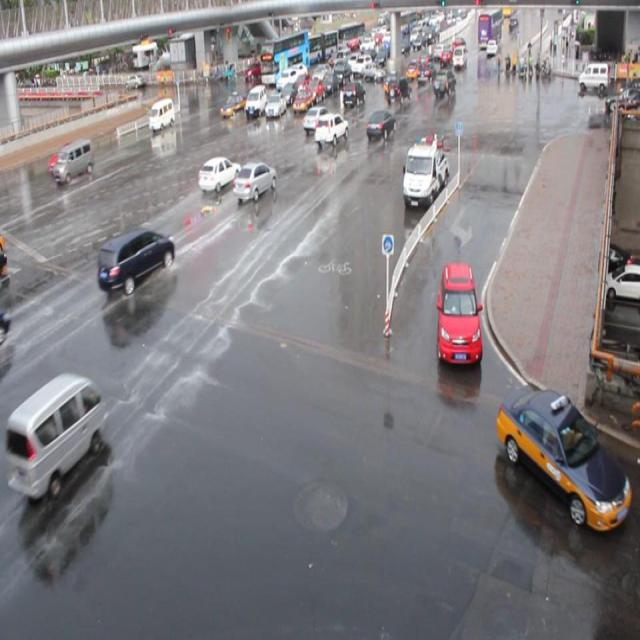bus: (401, 135, 448, 203)
car: (495, 384, 630, 530), (96, 227, 175, 296), (434, 262, 482, 364), (232, 162, 276, 202), (197, 156, 241, 192), (314, 112, 348, 146), (365, 109, 395, 140), (48, 141, 78, 172), (302, 105, 333, 132), (384, 75, 411, 104), (220, 91, 247, 118), (341, 80, 366, 106), (264, 90, 286, 116), (291, 85, 312, 112), (305, 75, 324, 99), (279, 79, 298, 101), (292, 70, 310, 92)
truck: (20, 373, 103, 498), (53, 138, 95, 183), (148, 98, 174, 131), (248, 84, 270, 115)
